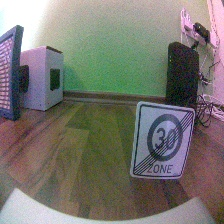dreisiger_zone_ende: (130, 100, 194, 179)
